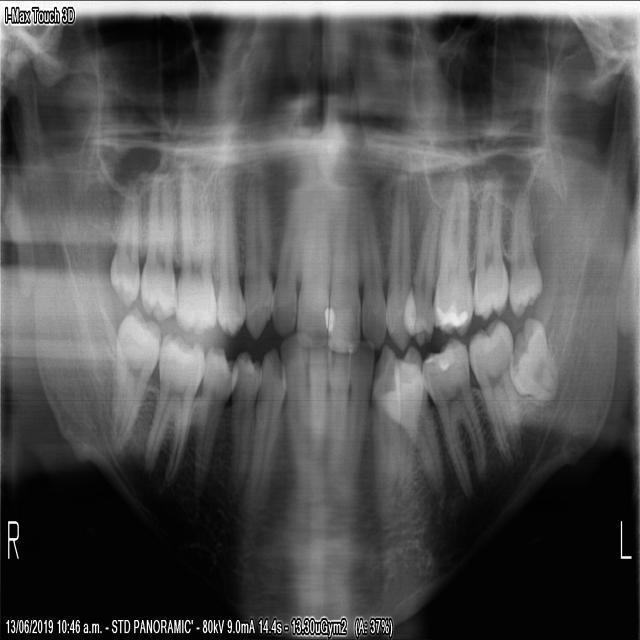LCD: (372, 345, 399, 508)
LCU: (387, 184, 410, 347)
LID: (345, 349, 374, 478), (328, 353, 350, 475)
LIU: (328, 190, 361, 355), (359, 192, 387, 348)
LMD: (422, 335, 490, 497), (467, 314, 526, 459), (509, 313, 564, 402)
LMU: (432, 177, 473, 333), (472, 180, 511, 320), (508, 179, 544, 314)
LPMD: (388, 340, 447, 502)
LPMU: (402, 204, 439, 344)
RCD: (244, 343, 286, 502)
RCU: (244, 170, 272, 343)
RID: (279, 330, 308, 475), (308, 348, 328, 463)
RIU: (294, 178, 331, 350), (270, 184, 305, 335)
RMD: (142, 329, 204, 485), (106, 312, 161, 455)
RMU: (174, 163, 216, 334), (140, 172, 176, 327), (109, 192, 141, 309)
RPMD: (192, 345, 237, 490), (229, 353, 261, 488)
RPMU: (215, 175, 244, 343)
